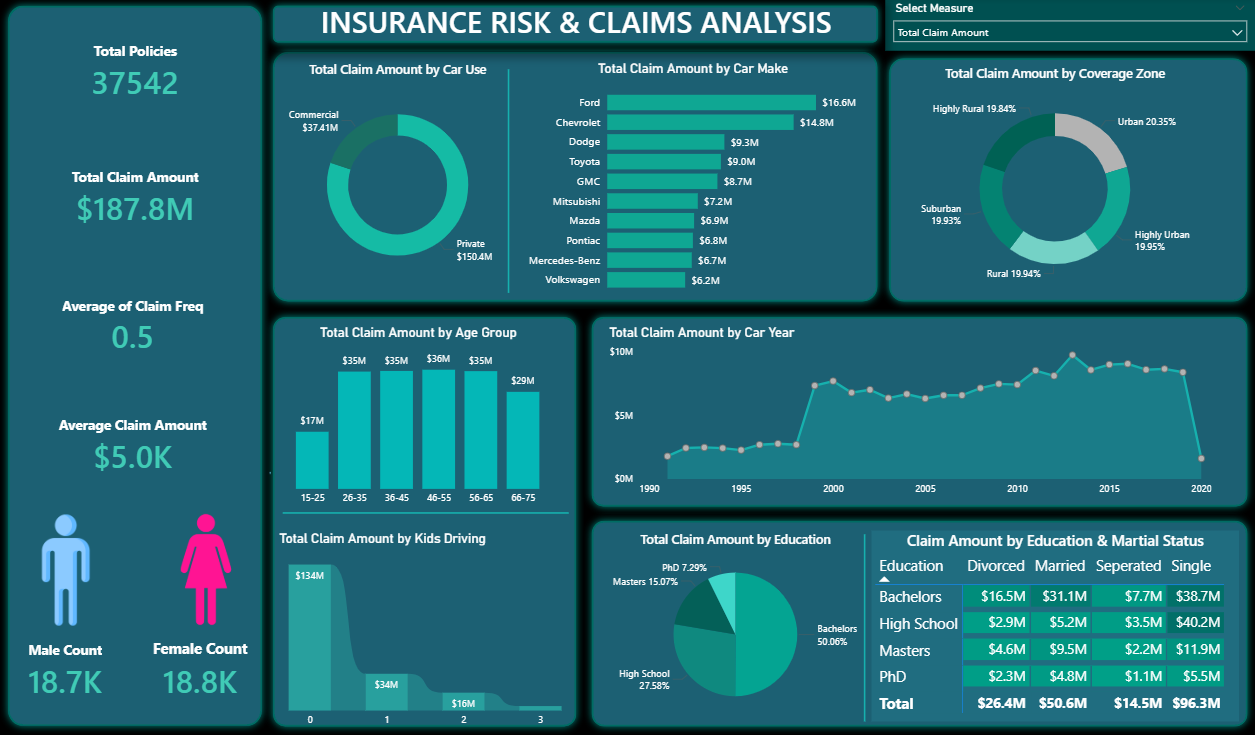

The dashboard page shown, as its layout file describes it:
{"tool":"powerbi","page":{"name":"Page 1","canvas":[1600,950],"ordinal":0},"visuals":[{"type":"shape","box":[1.8,0,343.1,936.9],"z":0},{"type":"cardVisual","fields":{"Data":["Table1.Total Policies","Table1.Total Claim Amount"]},"box":[43,19.1,261.1,312],"z":1000},{"type":"cardVisual","fields":{"Data":["Table1.Male Count","Table1.Female Count"]},"box":[3.2,773.6,335.9,164],"z":2000},{"type":"image","box":[339,598.7,12.6,12.6],"z":3000},{"type":"image","box":[9,611.4,151.5,234.4],"z":4000},{"type":"image","box":[187.6,595.1,151.5,265.1],"z":5000},{"type":"slicer","fields":{"Values":["Select Measure.Select Measure"]},"box":[1128.6,0,471.2,66.9],"z":6000},{"type":"shape","box":[339.1,58.9,789.5,337.5],"z":7000},{"type":"donutChart","fields":{"Y":["Table1.Total Claim Amount"],"Category":["Table1.Car Use"]},"box":[351.7,79.4,312,295.8],"z":8000},{"type":"clusteredBarChart","fields":{"Y":["Table1.Total Claim Amount"],"Category":["Table1.Car Make"]},"box":[663.7,79.4,440,304.8],"z":9000},{"type":"shape","box":[1123.8,66.9,476,329.5],"z":10000},{"type":"donutChart","fields":{"Y":["Table1.Total Claim Amount"],"Category":["Table1.Coverage Zone"]},"box":[1157.8,84.8,375.1,295.8],"z":11000},{"type":"shape","box":[339.1,396.4,405.9,541.2],"z":12000},{"type":"clusteredColumnChart","fields":{"Y":["Table1.Total Claim Amount"],"Category":["Table1.Age Group"]},"box":[351.7,414.8,364.3,239.9],"z":13000},{"type":"ribbonChart","fields":{"Y":["Table1.Total Claim Amount"],"Category":["Table1.Kids Driving"]},"box":[351.8,678.1,382,259.5],"z":14000},{"type":"shape","box":[745,396.4,854.8,261.1],"z":15000},{"type":"areaChart","fields":{"Y":["Table1.Total Claim Amount"],"Category":["Table1.Car Year"]},"box":[771.9,414.8,777.3,227.2],"z":16000},{"type":"shape","box":[745,655.8,854.8,281.8],"z":17000},{"type":"pieChart","fields":{"Y":["Table1.Total Claim Amount"],"Category":["Table1.Education"]},"box":[771.9,678.1,331.8,243.5],"z":18000},{"type":"pivotTable","title":"Claim Amount by Education & Martial Status","fields":{"Rows":["Table1.Education"],"Columns":["Table1.Marital Status"],"Values":["Table1.Total Claim Amount"]},"box":[1111.1,678.1,468,243.6],"z":19000},{"type":"shape","box":[633,90.2,30.7,284.9],"z":20000},{"type":"shape","box":[1080.9,682.9,43,238.8],"z":21000},{"type":"shape","box":[360.7,649.2,364.3,12.6],"z":22000},{"type":"shape","box":[339,0,789.9,66.7],"z":23000},{"type":"textbox","box":[339.1,0,784.8,66.9],"z":24000},{"type":"cardVisual","fields":{"Data":["Avg(Table1.Claim Freq)","Table1.Average Claim Amount"]},"box":[39.7,346.3,261.5,295.8],"z":25000}]}

Visuals, with their boxes in screenshot pixels (x1, y1, x2, y2), scaled from the page's 1600x950 canvas onto the 1255x735 screenshot:
shape: [left=1, top=0, right=271, bottom=725]
cardVisual - Table1.Total Policies x Table1.Total Claim Amount: [left=34, top=15, right=239, bottom=256]
cardVisual - Table1.Male Count x Table1.Female Count: [left=3, top=599, right=266, bottom=725]
image: [left=266, top=463, right=276, bottom=473]
image: [left=7, top=473, right=126, bottom=654]
image: [left=147, top=460, right=266, bottom=666]
slicer - Select Measure.Select Measure: [left=885, top=0, right=1254, bottom=52]
shape: [left=266, top=46, right=885, bottom=307]
donutChart - Table1.Total Claim Amount x Table1.Car Use: [left=276, top=61, right=521, bottom=290]
clusteredBarChart - Table1.Total Claim Amount x Table1.Car Make: [left=521, top=61, right=866, bottom=297]
shape: [left=881, top=52, right=1254, bottom=307]
donutChart - Table1.Total Claim Amount x Table1.Coverage Zone: [left=908, top=66, right=1202, bottom=294]
shape: [left=266, top=307, right=584, bottom=725]
clusteredColumnChart - Table1.Total Claim Amount x Table1.Age Group: [left=276, top=321, right=562, bottom=507]
ribbonChart - Table1.Total Claim Amount x Table1.Kids Driving: [left=276, top=525, right=576, bottom=725]
shape: [left=584, top=307, right=1254, bottom=509]
areaChart - Table1.Total Claim Amount x Table1.Car Year: [left=605, top=321, right=1215, bottom=497]
shape: [left=584, top=507, right=1254, bottom=725]
pieChart - Table1.Total Claim Amount x Table1.Education: [left=605, top=525, right=866, bottom=713]
"Claim Amount by Education & Martial Status" pivotTable: [left=872, top=525, right=1239, bottom=713]
shape: [left=497, top=70, right=521, bottom=290]
shape: [left=848, top=528, right=882, bottom=713]
shape: [left=283, top=502, right=569, bottom=512]
shape: [left=266, top=0, right=885, bottom=52]
textbox: [left=266, top=0, right=882, bottom=52]
cardVisual - Avg(Table1.Claim Freq) x Table1.Average Claim Amount: [left=31, top=268, right=236, bottom=497]
